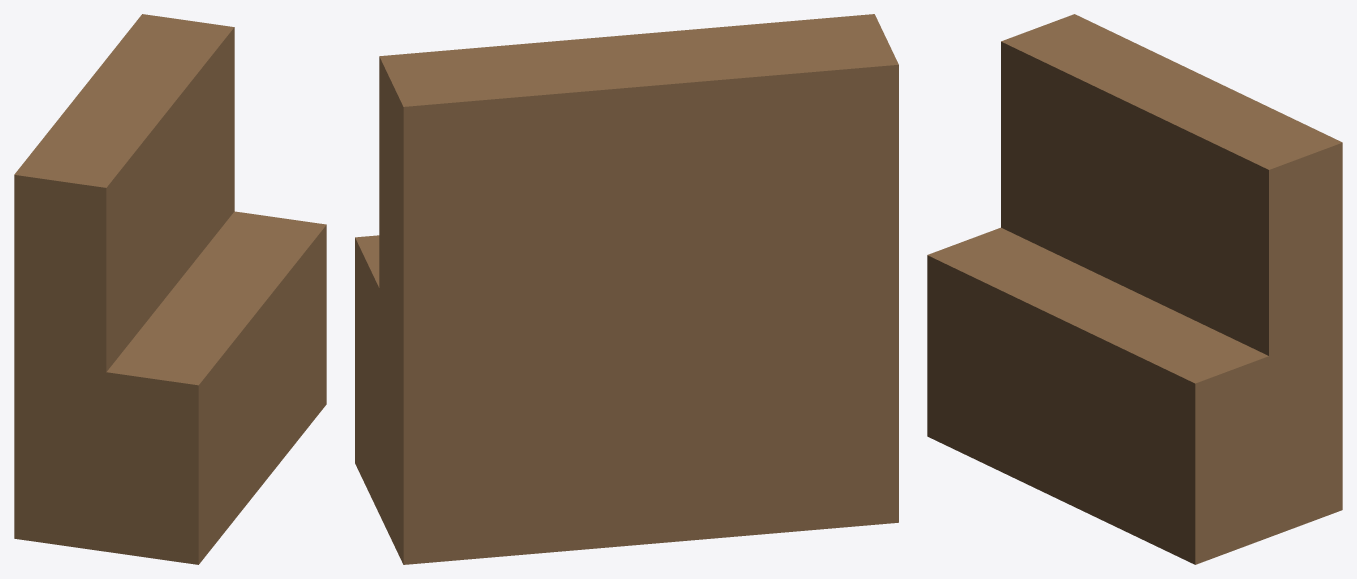
Rendered from piano.fbx.
The picture shows the model from 3 angles, left to right: view 1: azimuth 30°, elevation 25°; view 2: azimuth 150°, elevation 25°; view 3: azimuth 270°, elevation 25°; orthographic projection. The views are drawn at different scales.
Visible parts, largest first — view 1: scene_art_pregraph; view 2: scene_art_pregraph; view 3: scene_art_pregraph.
Boxes of the visible parts, bbox=[...] form: scene_art_pregraph: bbox=[14, 14, 326, 564]; scene_art_pregraph: bbox=[355, 14, 898, 564]; scene_art_pregraph: bbox=[927, 14, 1342, 564].
Size of the model in its own units: 35.34 by 33 by 33.83.
